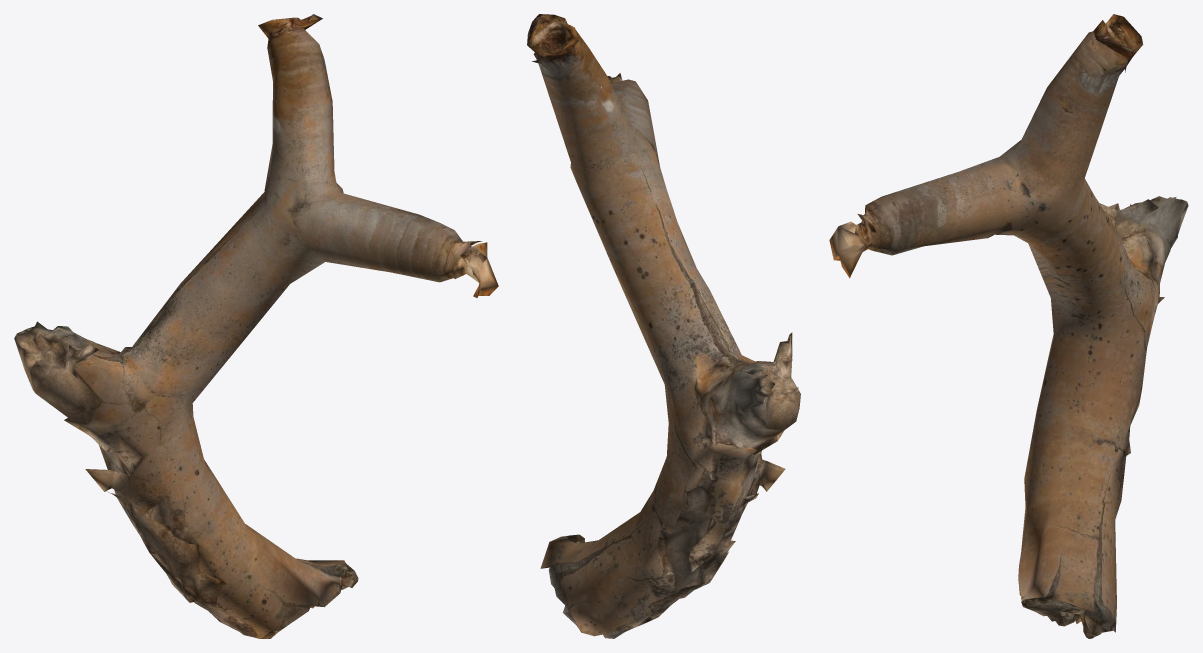
The model's file is dead-branch.glb.
The picture shows the model from 3 angles, left to right: view 1: azimuth 30°, elevation 25°; view 2: azimuth 150°, elevation 25°; view 3: azimuth 270°, elevation 25°; orthographic projection. The views are drawn at different scales.
Visible parts, largest first — view 1: dead_quiver_branch_01; view 2: dead_quiver_branch_01; view 3: dead_quiver_branch_01.
Part boxes in pixels (box(x1,y1,x2,y2)): dead_quiver_branch_01: box(14, 14, 498, 638); dead_quiver_branch_01: box(527, 14, 800, 638); dead_quiver_branch_01: box(829, 14, 1188, 638).
Bounding box in the file's own units: 0.253 × 0.4384 × 0.2258.
1 material, 1 textured.
